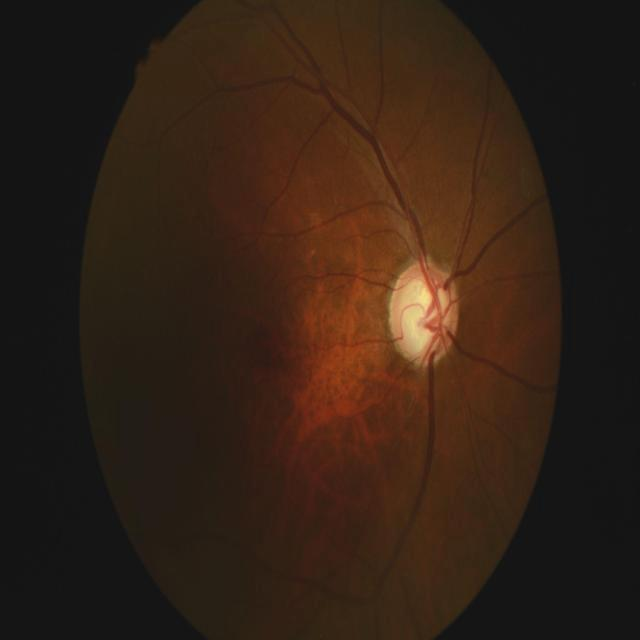cup: (401, 278, 452, 355)
disk: (389, 258, 458, 368)
